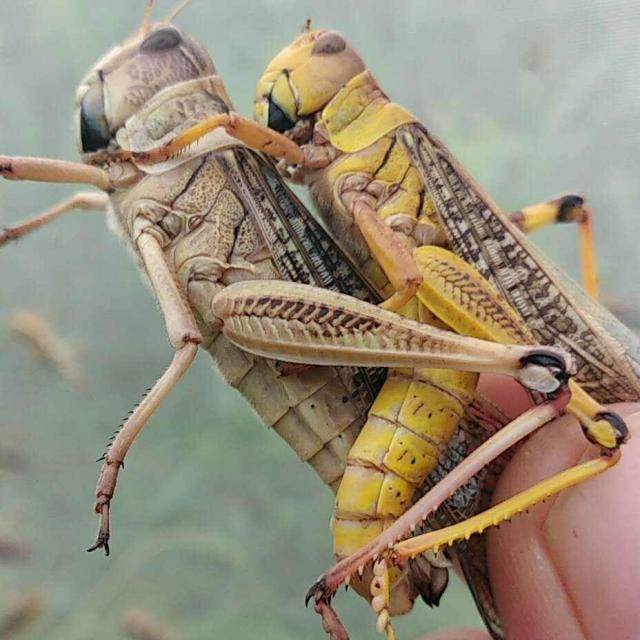ZhaMeng: (32, 15, 590, 589), (235, 7, 639, 442)
